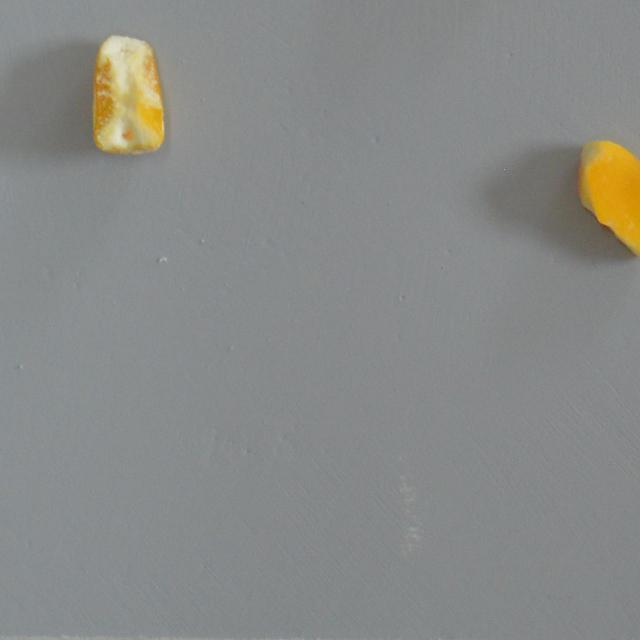dañado: (88, 30, 169, 158), (572, 133, 640, 268)
